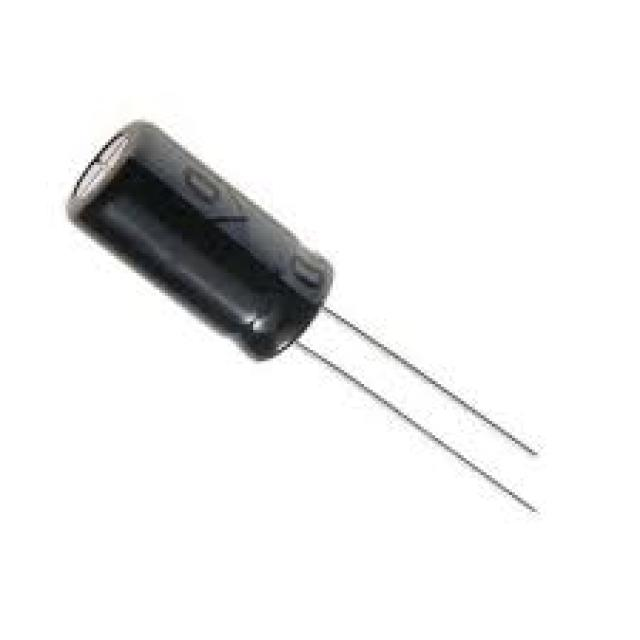Capacitor: (65, 119, 538, 512)
